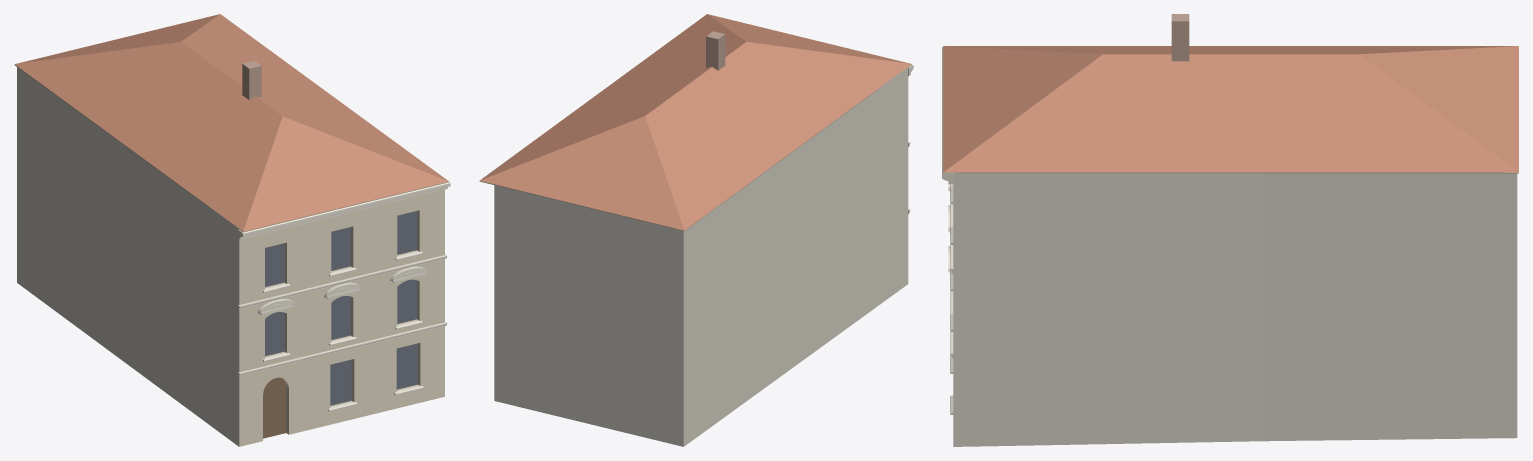
3 renders of one model, left to right at view 1: azimuth 30°, elevation 25°; view 2: azimuth 150°, elevation 25°; view 3: azimuth 270°, elevation 25°, orthographic. The views are drawn at different scales.
Visible parts, largest first — view 1: CP_266_Masonry, CP_266_Roof, CP_266_Cornice_main_0, CP_266_Cornice_string1_0, CP_266_Cornice_string2_0, CP_266_Chimney_0; view 2: CP_266_Masonry, CP_266_Roof, CP_266_Chimney_0; view 3: CP_266_Masonry, CP_266_Roof, CP_266_Roof_EaveClosure_1, CP_266_Chimney_0.
Part boxes in pixels (x1,y1,x2,y2): CP_266_Masonry: [17, 67, 444, 446]; CP_266_Roof: [14, 14, 448, 231]; CP_266_Cornice_main_0: [238, 181, 450, 239]; CP_266_Cornice_string1_0: [238, 322, 447, 376]; CP_266_Cornice_string2_0: [238, 254, 447, 309]; CP_266_Chimney_0: [242, 60, 261, 100]; CP_266_Masonry: [494, 67, 908, 446]; CP_266_Roof: [480, 14, 911, 230]; CP_266_Chimney_0: [706, 31, 725, 70]; CP_266_Masonry: [953, 172, 1517, 446]; CP_266_Roof: [943, 46, 1518, 172]; CP_266_Roof_EaveClosure_1: [943, 172, 1503, 173]; CP_266_Chimney_0: [1171, 14, 1189, 61].
Bounding box in the file's own units: 11.95 × 16 × 22.85.
